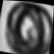correct: (2, 0, 54, 54)
